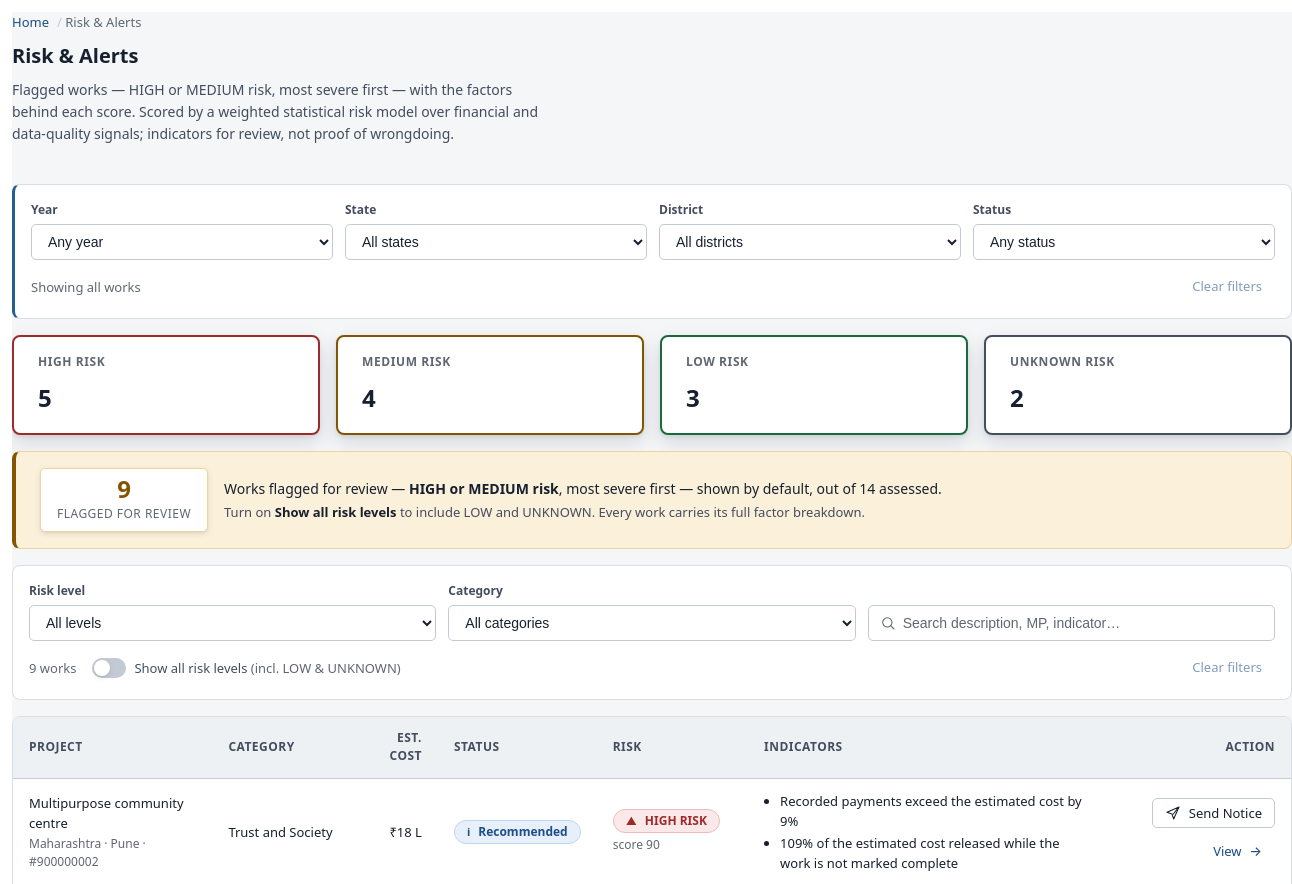
Test: RiskAlerts › filters the table by risk level
This screenshot has width=1292, height=884.
Select "UNKNOWN risk" in the dropdown labelled "Risk level" at (233, 623), box [29, 605, 436, 641]
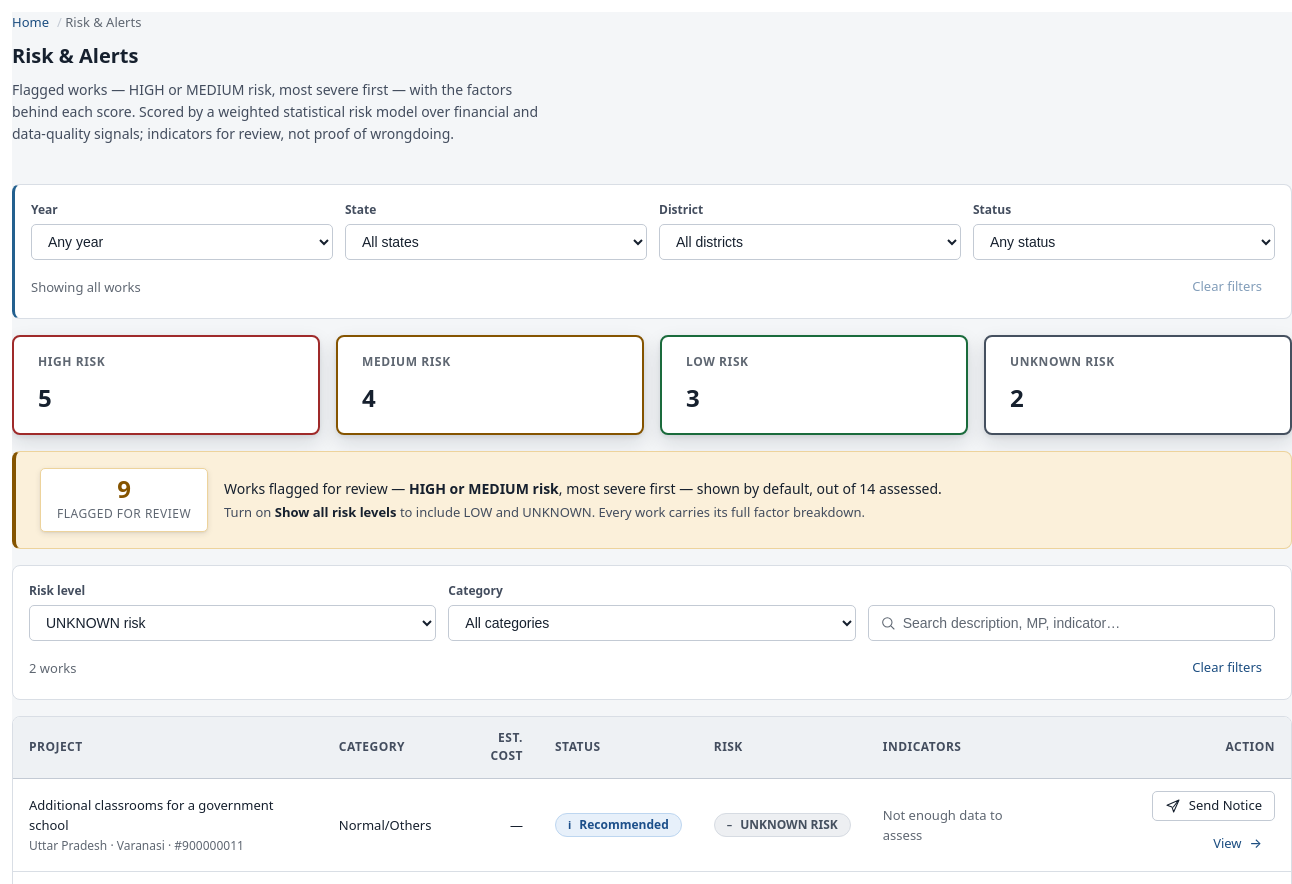
Result: the text "2 works" is shown at [29, 658, 76, 678]
